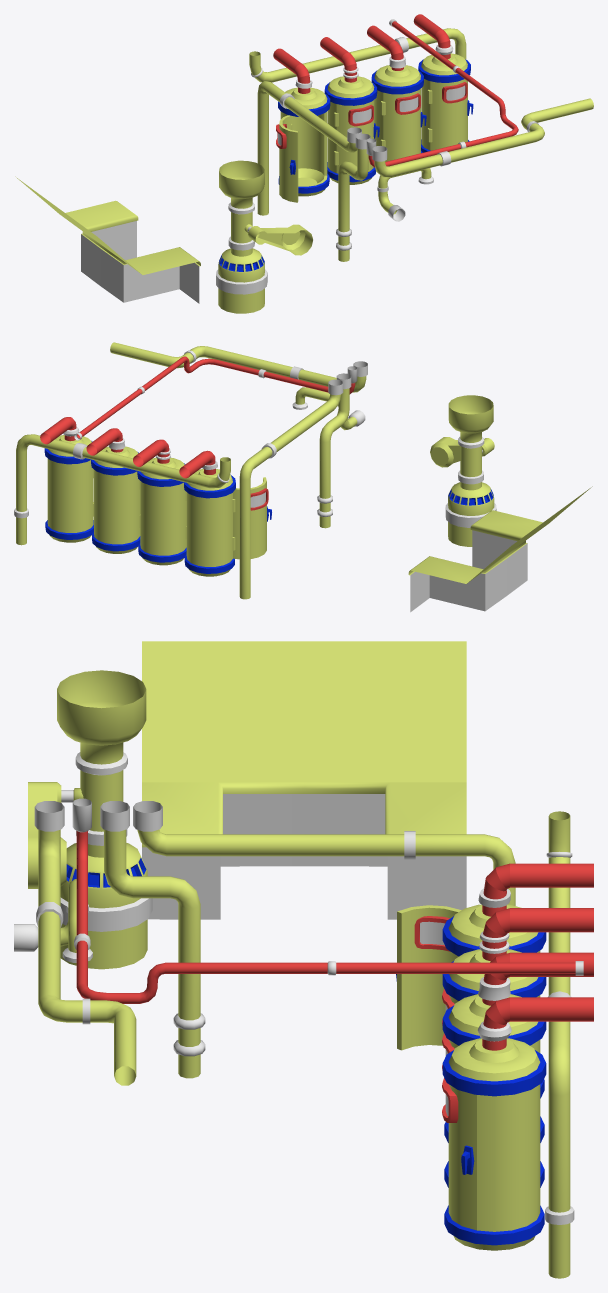
Rendered from Submarine_pipes2.glb.
3 views of the same model, one above another, from view 1: azimuth 30°, elevation 25°; view 2: azimuth 150°, elevation 25°; view 3: azimuth 270°, elevation 25° (orthographic). The views are drawn at different scales.
Parts seen in each view (by area): view 1: LifepodSingle, Pipes.005, Cockpit, Sirene, Pipes, Pipes.006; view 2: LifepodSingle, Pipes.005, Cockpit, Sirene, Pipes, Pipes.006; view 3: Cockpit, LifepodSingle, Pipes.005, Sirene, Pipes, Pipes.006.
Boxes of the visible parts, bbox=[...] form: LifepodSingle: bbox=[273, 14, 473, 202]; Pipes.005: bbox=[257, 19, 593, 261]; Cockpit: bbox=[15, 176, 200, 303]; Sirene: bbox=[216, 160, 312, 313]; Pipes: bbox=[249, 28, 466, 82]; Pipes.006: bbox=[377, 168, 433, 221]; LifepodSingle: bbox=[40, 417, 271, 576]; Pipes.005: bbox=[74, 342, 367, 599]; Cockpit: bbox=[408, 486, 592, 612]; Sirene: bbox=[430, 395, 496, 546]; Pipes: bbox=[14, 434, 230, 545]; Pipes.006: bbox=[292, 387, 365, 430]; Cockpit: bbox=[142, 641, 466, 919]; LifepodSingle: bbox=[396, 863, 593, 1250]; Pipes.005: bbox=[34, 798, 583, 1085]; Sirene: bbox=[28, 670, 152, 969]; Pipes: bbox=[545, 811, 574, 1278]; Pipes.006: bbox=[14, 879, 92, 962].
Bounding box in the file's own units: 24.03 × 7.12 × 12.63.
